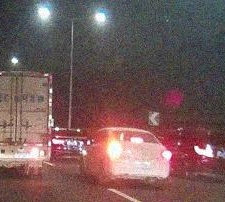L_light: (108, 146, 120, 156)
R_light: (161, 150, 170, 159)
T_light: (131, 138, 143, 142)
night-left: (106, 127, 170, 187)
